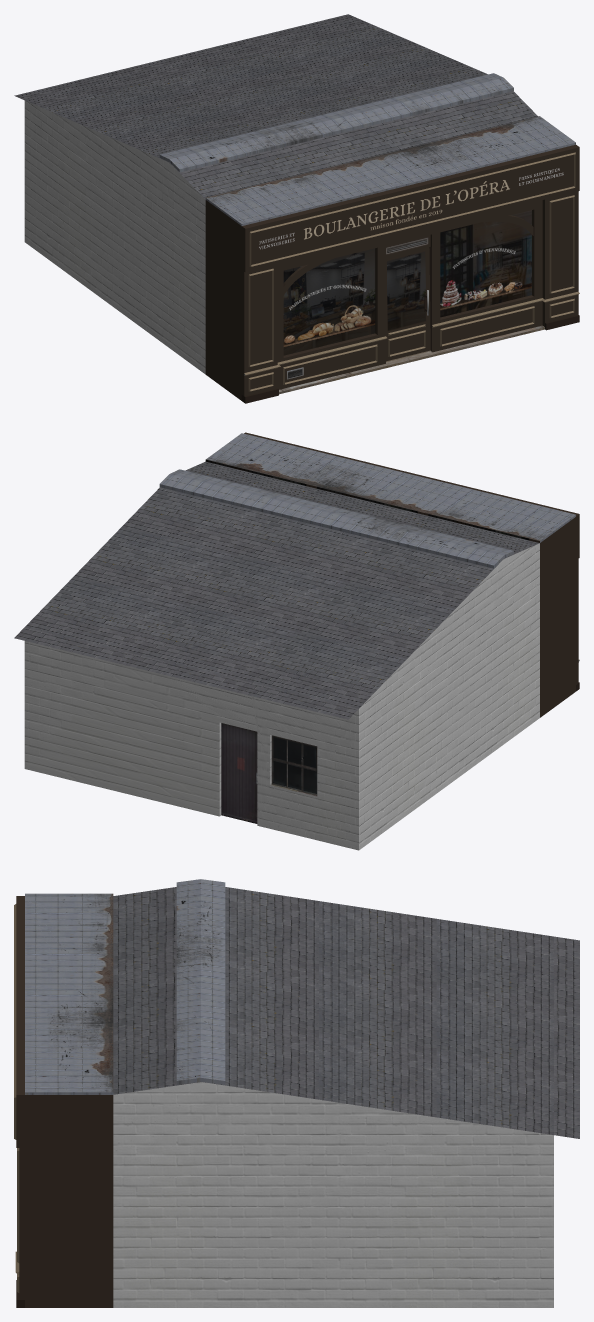
3 views of the same model, one above another, from view 1: azimuth 30°, elevation 25°; view 2: azimuth 150°, elevation 25°; view 3: azimuth 270°, elevation 25° (orthographic). The views are drawn at different scales.
Visible parts, largest first — view 1: Cube.002; view 2: Cube.002; view 3: Cube.002.
Boxes of the visible parts, left/top/right/bottom form: Cube.002: left=14, top=14, right=579, bottom=403; Cube.002: left=14, top=432, right=579, bottom=850; Cube.002: left=14, top=879, right=579, bottom=1307.
Size of the model in its own units: 800 by 432 by 963.
1 material, 1 textured.
